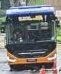bus: (35, 14, 43, 19)
